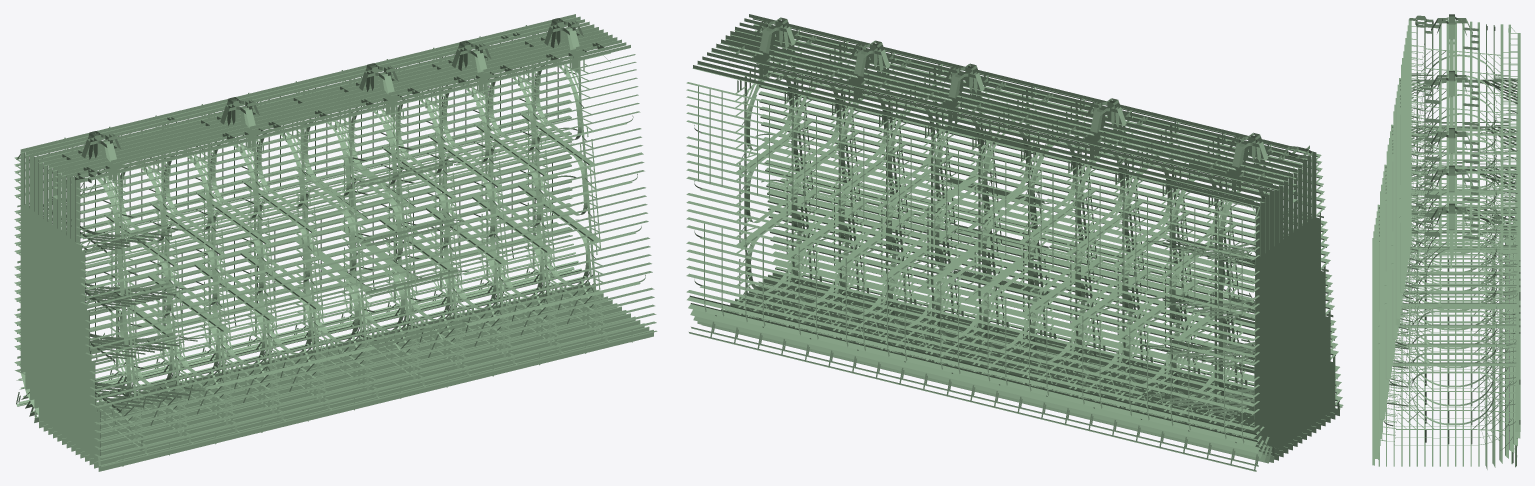
File: NO_3_WING_CARGO_OIL_TK_PS.glb
The picture shows the model from 3 angles, left to right: view 1: azimuth 30°, elevation 25°; view 2: azimuth 150°, elevation 25°; view 3: azimuth 270°, elevation 25°; orthographic projection. The views are drawn at different scales.
Parts seen in each view (by area): view 1: no part large enough to name; view 2: no part large enough to name; view 3: ST_SideTransxFR80PxWeb_077002-TW_795x21+180x31_NVA_1993, ST_SideTransxFR79PxWeb_194001-TW_795x21+180x31_NVA_1993, ST_SideTransxFR77PxWeb_194001-TW_795x21+180x31_NVA_1993, ST_SideTransxFR78PxWeb_194001-TW_795x21+180x31_NVA_1993, ST_SideTransxFR74PxWeb_078001-TW_795x21+180x31_NVA_1993, ST_SideTransxFR80PxWeb_192002-TW_595x12.5+150x25_NVA_1993, ST_SideTransxFR79PxWeb_195001-TW_595x12.5+150x25_NVA_1993, ST_SideTransxFR78PxWeb_195001-TW_595x12.5+150x25_NVA_1993, ST_SideTransxFR77PxWeb_195001-TW_595x12.5+150x25_NVA_1993.
Part boxes in pixels (bbox=[...]): ST_SideTransxFR80PxWeb_077002-TW_795x21+180x31_NVA_1993: bbox=[1436, 363, 1516, 366]; ST_SideTransxFR79PxWeb_194001-TW_795x21+180x31_NVA_1993: bbox=[1436, 344, 1516, 347]; ST_SideTransxFR77PxWeb_194001-TW_795x21+180x31_NVA_1993: bbox=[1436, 306, 1516, 309]; ST_SideTransxFR78PxWeb_194001-TW_795x21+180x31_NVA_1993: bbox=[1436, 325, 1516, 328]; ST_SideTransxFR74PxWeb_078001-TW_795x21+180x31_NVA_1993: bbox=[1436, 249, 1516, 252]; ST_SideTransxFR80PxWeb_192002-TW_595x12.5+150x25_NVA_1993: bbox=[1436, 304, 1516, 306]; ST_SideTransxFR79PxWeb_195001-TW_595x12.5+150x25_NVA_1993: bbox=[1436, 285, 1516, 287]; ST_SideTransxFR78PxWeb_195001-TW_595x12.5+150x25_NVA_1993: bbox=[1436, 266, 1516, 268]; ST_SideTransxFR77PxWeb_195001-TW_595x12.5+150x25_NVA_1993: bbox=[1436, 247, 1516, 249].
Bounding box in the file's own units: 62.88 × 31.5 × 17.37.
